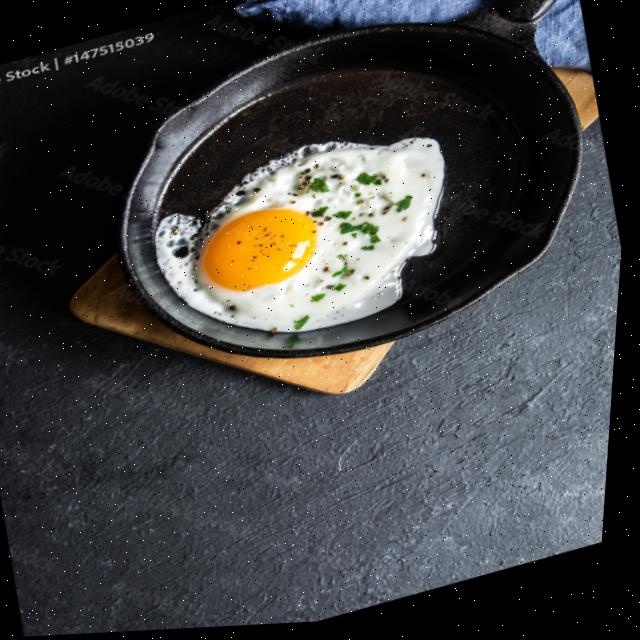Egg: (157, 142, 447, 336)
